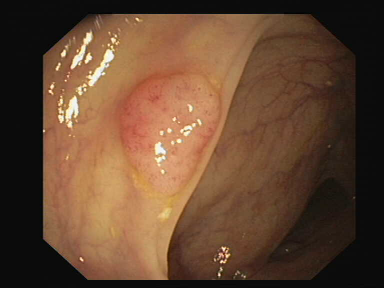polyp: (96, 48, 257, 212)
